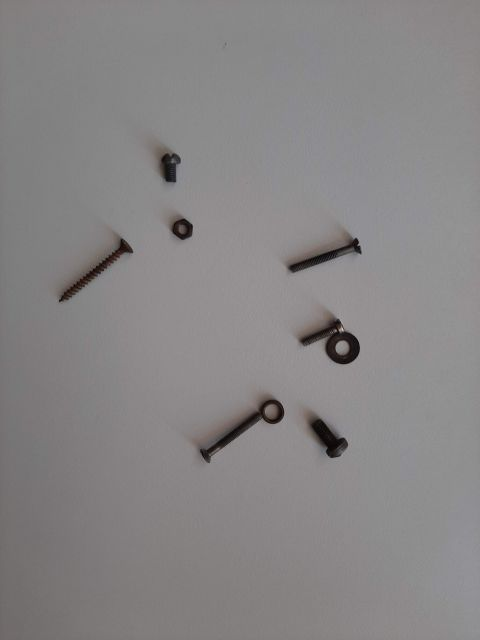nakretka: (135, 205, 205, 245)
podkladka: (305, 325, 365, 365)
sruba: (275, 205, 365, 295), (175, 395, 275, 475), (135, 125, 205, 185), (305, 395, 355, 475), (295, 305, 335, 355)
